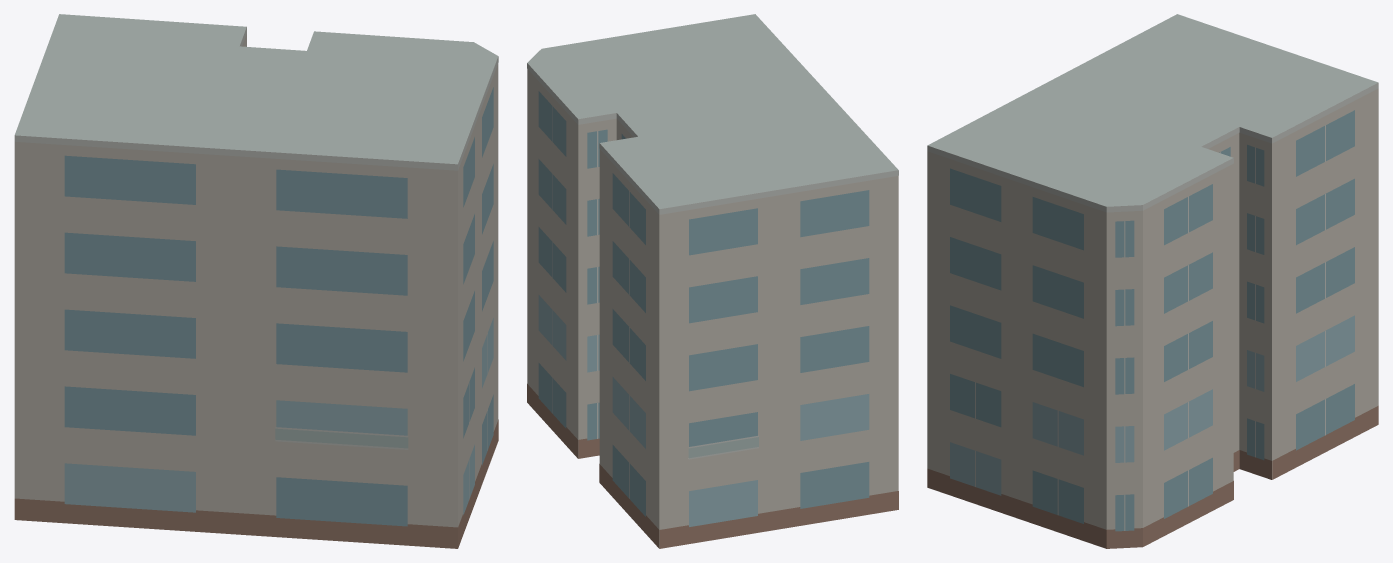
Rendered from survey-upis-32851478.glb.
3 renders of one model, left to right at view 1: azimuth 30°, elevation 25°; view 2: azimuth 150°, elevation 25°; view 3: azimuth 270°, elevation 25°, orthographic. The views are drawn at different scales.
Visible parts, largest first — view 1: survey-upis-32851478.tmp; view 2: survey-upis-32851478.tmp; view 3: survey-upis-32851478.tmp.
Boxes of the visible parts, x1,y1,x2,y2 form: survey-upis-32851478.tmp: (14, 14, 498, 548); survey-upis-32851478.tmp: (527, 14, 898, 548); survey-upis-32851478.tmp: (927, 14, 1378, 548).
Bounding box in the file's own units: 17.72 × 14.65 × 17.53.
